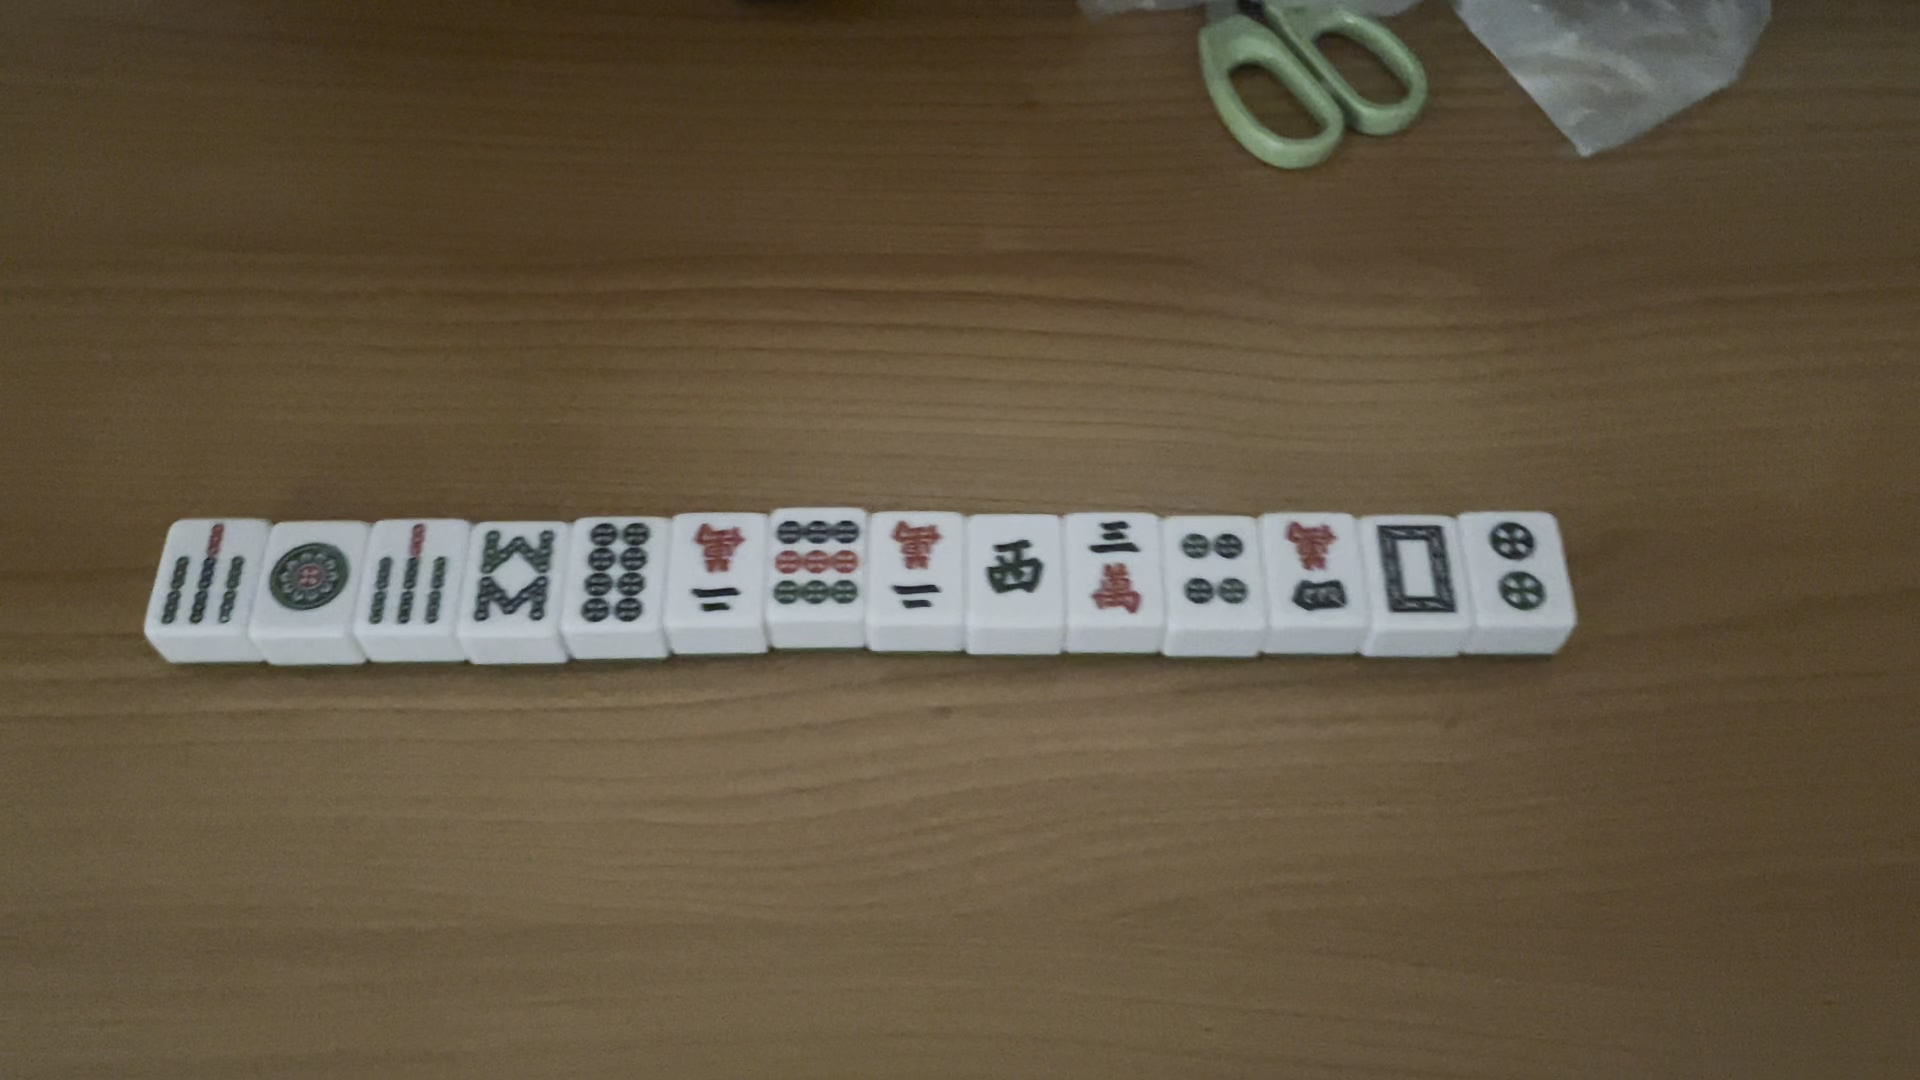b-7: (146, 521, 255, 634), (360, 521, 458, 632)
b-8: (471, 527, 560, 630)
c-2: (678, 516, 752, 615), (880, 520, 949, 620)
c-3: (1077, 516, 1149, 620)
c-4: (1276, 517, 1356, 626)
d-1: (262, 541, 355, 611)
d-2: (1484, 520, 1553, 612)
d-4: (1171, 527, 1251, 611)
d-8: (576, 522, 649, 630)
d-9: (771, 514, 862, 611)
honors-west: (978, 538, 1047, 603)
honors-white: (1371, 516, 1461, 621)
